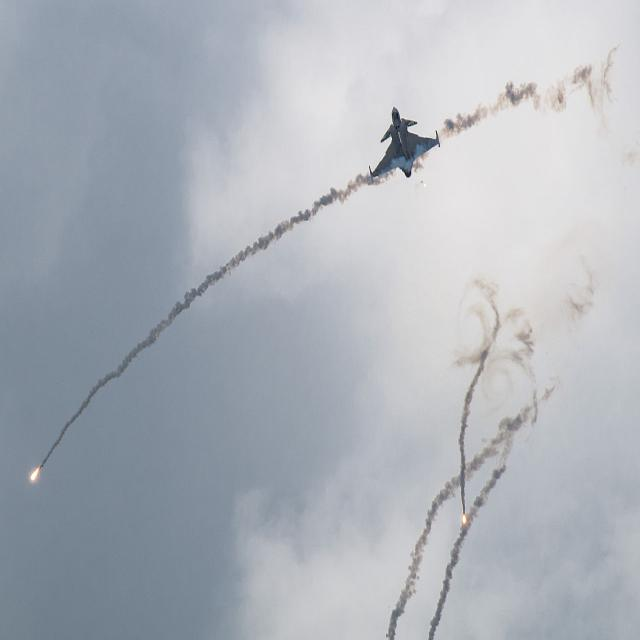MIL_Plane: (368, 104, 440, 182)
